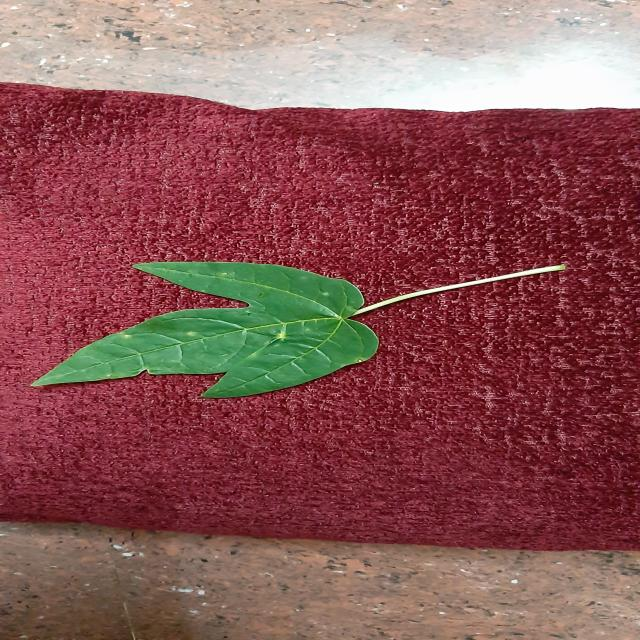papaya: (33, 262, 379, 398)
